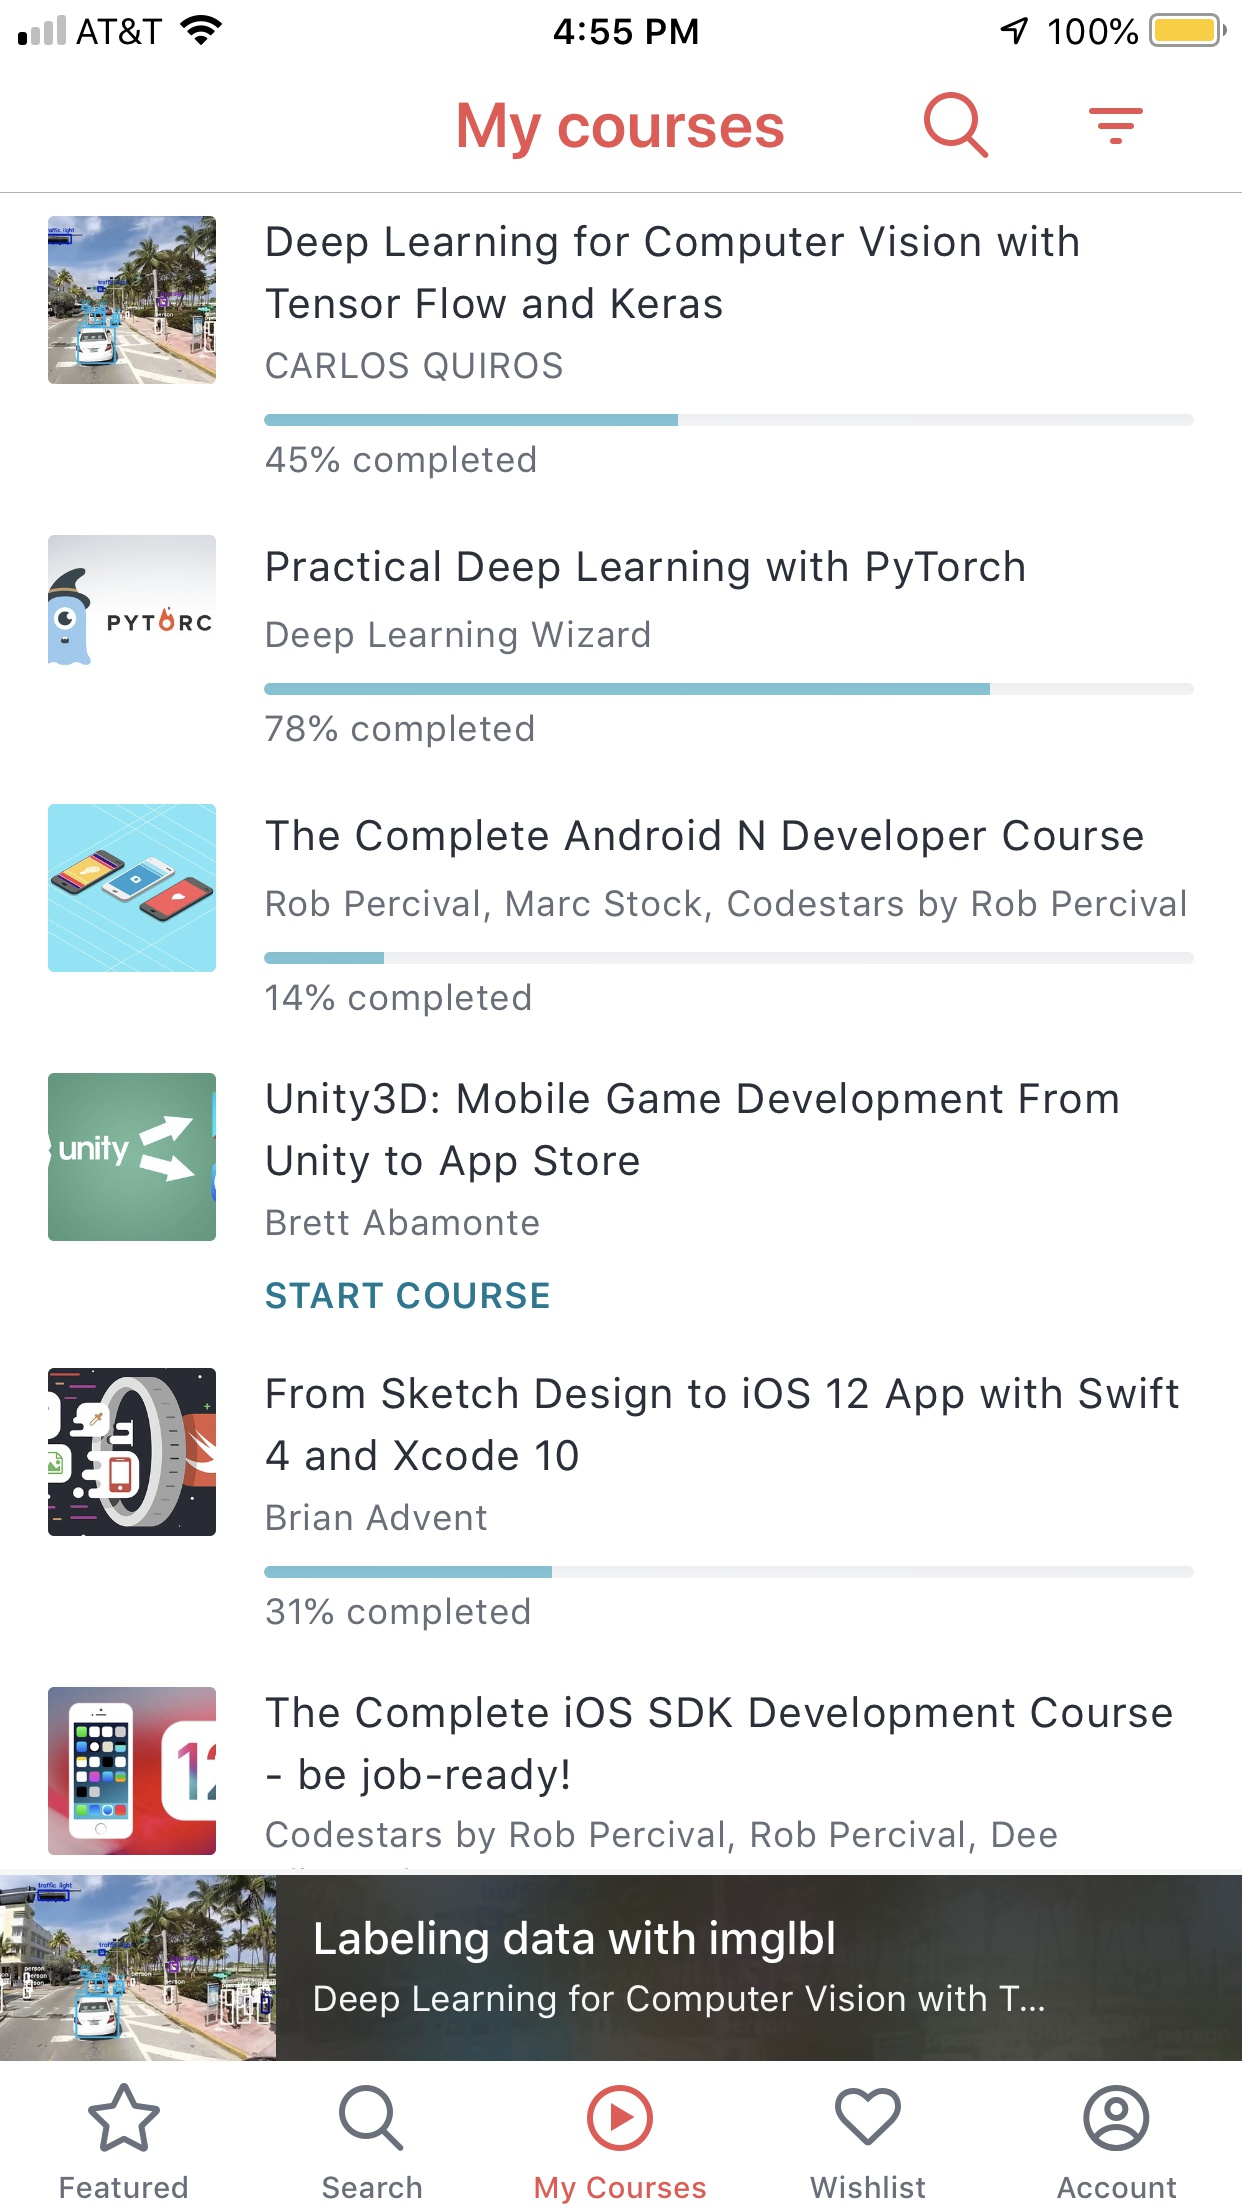Icon: (88, 2082, 162, 2153), (587, 2084, 655, 2152), (1081, 2084, 1149, 2152), (924, 93, 990, 161), (338, 2084, 405, 2152), (834, 2087, 902, 2146), (1087, 108, 1143, 146)
Image: (2, 1874, 278, 2061), (47, 1366, 217, 1538), (49, 804, 218, 974), (49, 1686, 218, 1855), (49, 1074, 218, 1242), (49, 215, 217, 385), (49, 535, 217, 667)
Text: (265, 1695, 1174, 1799), (265, 1375, 1180, 1473), (267, 1081, 1118, 1184), (265, 224, 1080, 320), (265, 817, 1143, 858), (267, 549, 1025, 591), (267, 889, 1186, 924), (265, 1818, 1059, 1855), (315, 1984, 1045, 2018), (315, 1918, 836, 1964), (458, 102, 786, 161), (267, 620, 651, 657), (265, 350, 564, 384), (265, 444, 537, 481), (265, 714, 535, 751), (265, 1595, 532, 1632), (265, 983, 532, 1018), (265, 1281, 550, 1310), (267, 1209, 540, 1237), (265, 1501, 488, 1532), (535, 2175, 708, 2205), (61, 2175, 190, 2200), (1057, 2175, 1178, 2200), (808, 2175, 927, 2200), (321, 2175, 423, 2199)
UpperTaskBar: (2, 2, 1242, 49)
